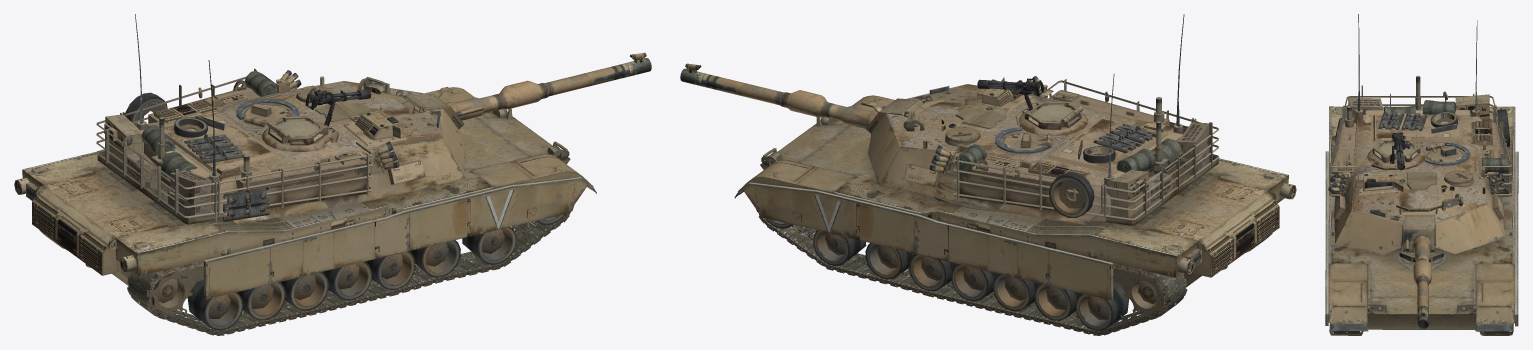
Rendered from tank2.glb.
3 renders of one model, left to right at view 1: azimuth 30°, elevation 25°; view 2: azimuth 150°, elevation 25°; view 3: azimuth 270°, elevation 25°, orthographic. The views are drawn at different scales.
Visible parts, largest first — view 1: object 1, Object_5_t, Object_2_k1, Object_5_w0, Object_5_w12, Object_5_w24, Object_5_w18, Object_5_w29, Object_5_w16, Object_5_w10, Object_5_w26, Object_3_t; view 2: object 1, Object_5_t, Object_2_k0, Object_5_w1, Object_5_w13, Object_5_w25, Object_5_w19, Object_5_w17, Object_5_w11, Object_5_w27, Object_5_w28, Object_3_t; view 3: object 1, Object_5_t, Object_3_t, Object_2_k1, Object_2_k0.
Boxes of the visible parts, bbox=[...] form: object 1: bbox=[14, 14, 646, 326]; Object_5_t: bbox=[96, 58, 651, 224]; Object_2_k1: bbox=[127, 205, 574, 335]; Object_5_w0: bbox=[149, 270, 192, 317]; Object_5_w12: bbox=[290, 272, 328, 310]; Object_5_w24: bbox=[333, 261, 372, 300]; Object_5_w18: bbox=[377, 251, 415, 289]; Object_5_w29: bbox=[477, 227, 516, 265]; Object_5_w16: bbox=[204, 292, 242, 330]; Object_5_w10: bbox=[247, 282, 285, 320]; Object_5_w26: bbox=[422, 240, 460, 277]; Object_3_t: bbox=[305, 89, 371, 109]; object 1: bbox=[685, 14, 1296, 326]; Object_5_t: bbox=[680, 68, 1218, 224]; Object_2_k0: bbox=[756, 209, 1187, 335]; Object_5_w1: bbox=[1124, 272, 1165, 317]; Object_5_w13: bbox=[992, 274, 1029, 311]; Object_5_w25: bbox=[951, 264, 988, 301]; Object_5_w19: bbox=[909, 254, 946, 291]; Object_5_w17: bbox=[1075, 293, 1112, 330]; Object_5_w11: bbox=[1034, 283, 1071, 320]; Object_5_w27: bbox=[865, 243, 901, 279]; Object_5_w28: bbox=[813, 230, 849, 266]; Object_3_t: bbox=[977, 78, 1044, 96]; object 1: bbox=[1325, 14, 1518, 331]; Object_5_t: bbox=[1328, 97, 1511, 324]; Object_3_t: bbox=[1391, 132, 1410, 170]; Object_2_k1: bbox=[1329, 324, 1363, 335]; Object_2_k0: bbox=[1479, 324, 1513, 335].
Bounding box in the file's own units: 1 × 0.4344 × 0.3558.
Materials: 4 (4 with a texture image).
